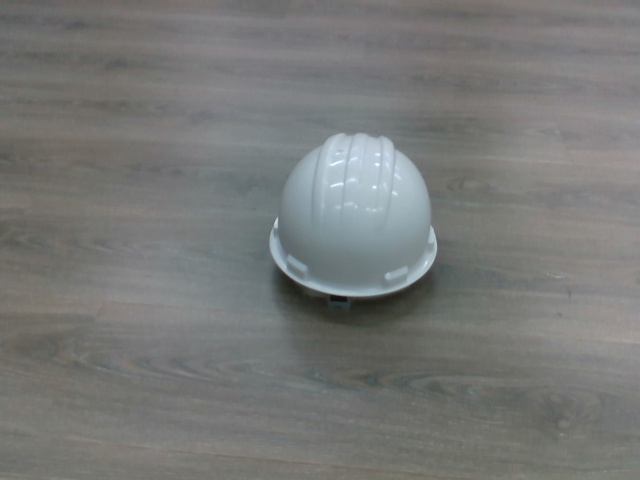helmet: (267, 132, 440, 307)
